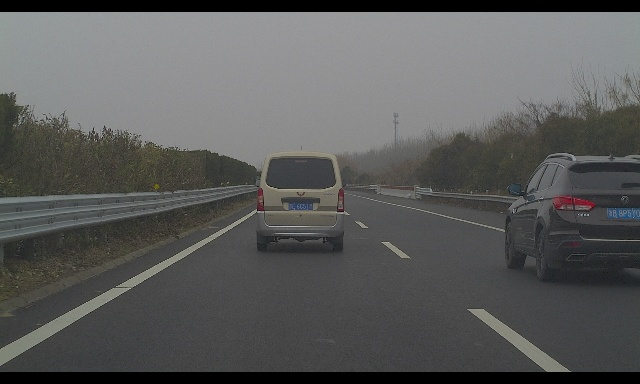car: (504, 153, 640, 282), (254, 151, 346, 252)
